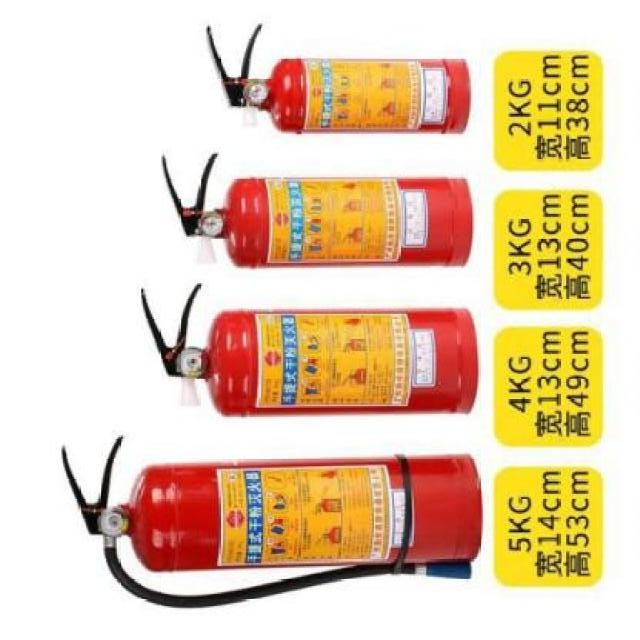fire extinguisher: (60, 434, 483, 609), (139, 283, 478, 420), (161, 154, 474, 271), (205, 23, 471, 135)
